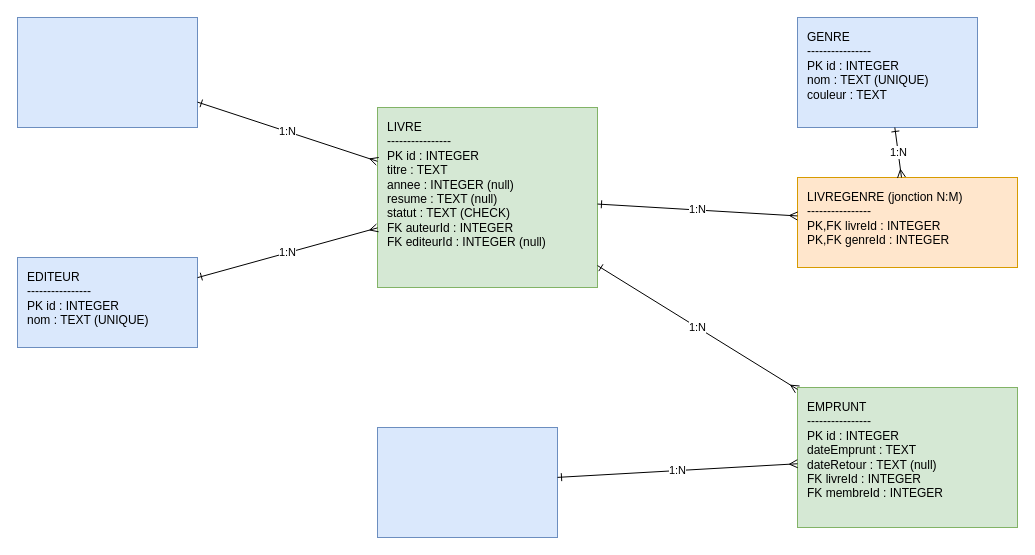
This 1035x555 diagram has some shape labels left out. The centre of each missing label's shape, as x and y in pixels:
"AUTEUR ---------------- PK id : INTEGER nom : TEXT prenom : TEXT" belongs at (x=107, y=72).
"MEMBRE ---------------- PK id : INTEGER nom : TEXT email : TEXT (UNIQUE)" belongs at (x=467, y=482).
